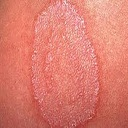Bacterial Infection: (31, 3, 102, 128)
